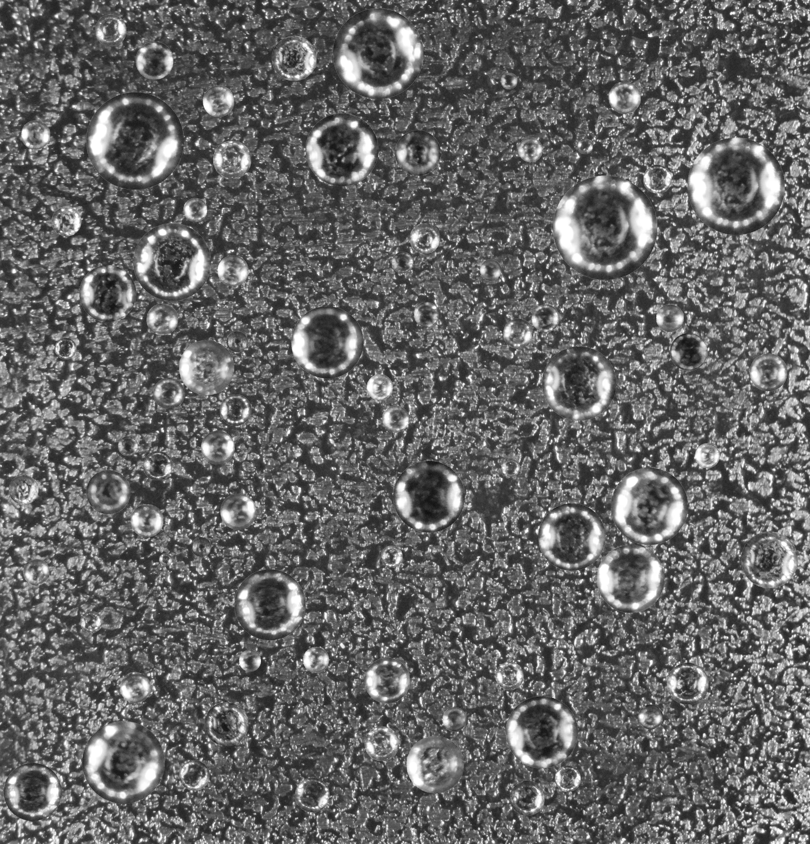Bubble: (553, 175, 657, 279), (86, 92, 183, 189), (687, 137, 784, 234), (332, 8, 423, 98), (82, 721, 164, 803), (611, 467, 688, 544), (133, 223, 210, 300), (542, 346, 616, 420), (305, 113, 378, 186), (291, 306, 363, 378), (505, 696, 577, 768), (393, 460, 464, 532), (234, 569, 305, 640), (596, 545, 664, 612), (538, 503, 605, 570), (3, 763, 61, 821), (406, 736, 463, 793), (741, 531, 797, 588), (79, 265, 136, 321), (179, 340, 234, 395), (364, 657, 409, 703), (395, 130, 440, 175), (271, 35, 316, 80), (86, 470, 130, 514), (204, 702, 248, 746), (666, 662, 708, 704), (135, 41, 173, 79), (213, 140, 251, 178), (749, 353, 787, 391), (670, 333, 707, 370), (220, 493, 256, 529), (364, 726, 399, 761), (295, 777, 329, 812), (510, 780, 544, 815), (201, 430, 234, 464), (130, 504, 163, 537), (94, 14, 126, 46), (608, 81, 640, 113), (146, 303, 178, 335), (153, 377, 184, 409), (202, 85, 234, 116), (219, 394, 251, 425), (217, 255, 248, 286), (409, 223, 440, 253), (120, 672, 150, 703), (503, 318, 533, 348), (179, 760, 209, 790), (51, 206, 81, 236), (8, 475, 38, 504), (21, 120, 50, 149), (143, 451, 172, 480), (643, 164, 671, 193), (531, 304, 559, 332), (495, 662, 523, 690), (656, 304, 683, 331), (382, 405, 408, 432), (23, 559, 49, 585), (366, 374, 392, 400), (554, 765, 580, 791), (414, 302, 439, 327), (638, 704, 663, 729), (303, 647, 328, 672), (442, 707, 466, 731), (695, 443, 719, 467), (518, 137, 542, 161), (183, 198, 207, 221), (80, 611, 102, 633), (54, 337, 76, 359), (380, 545, 402, 567), (391, 251, 413, 273), (239, 649, 260, 671), (226, 331, 247, 352), (480, 259, 501, 280), (191, 537, 211, 556), (118, 436, 137, 456), (500, 72, 517, 89), (502, 459, 519, 476), (577, 138, 593, 154), (159, 553, 171, 566), (673, 574, 683, 583)
